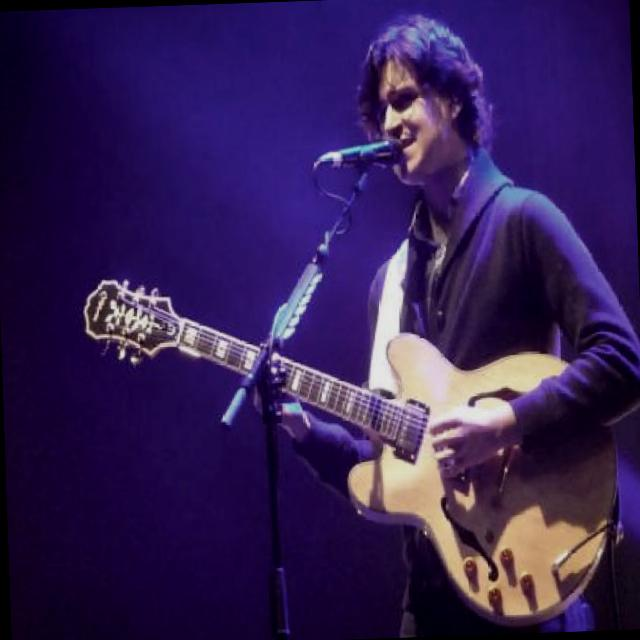Person: (368, 32, 620, 594)
